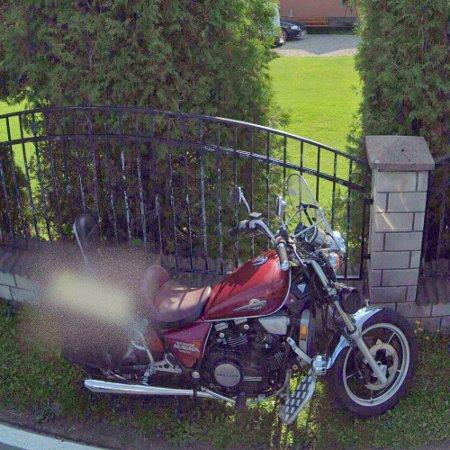motorcycles: (39, 176, 418, 424)
